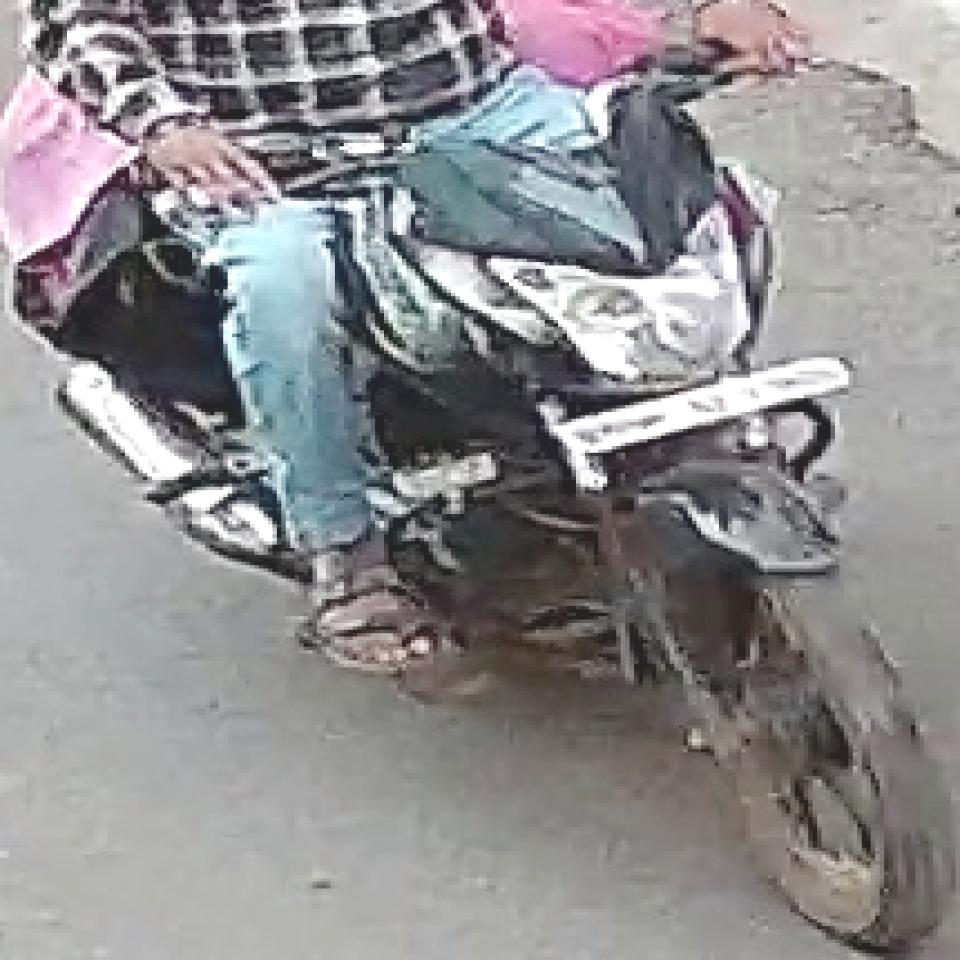head_light: (481, 194, 755, 392)
